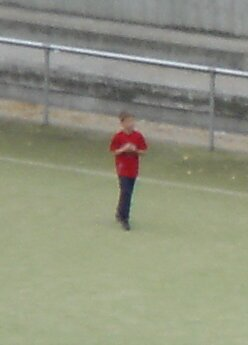person: (110, 109, 152, 231)
